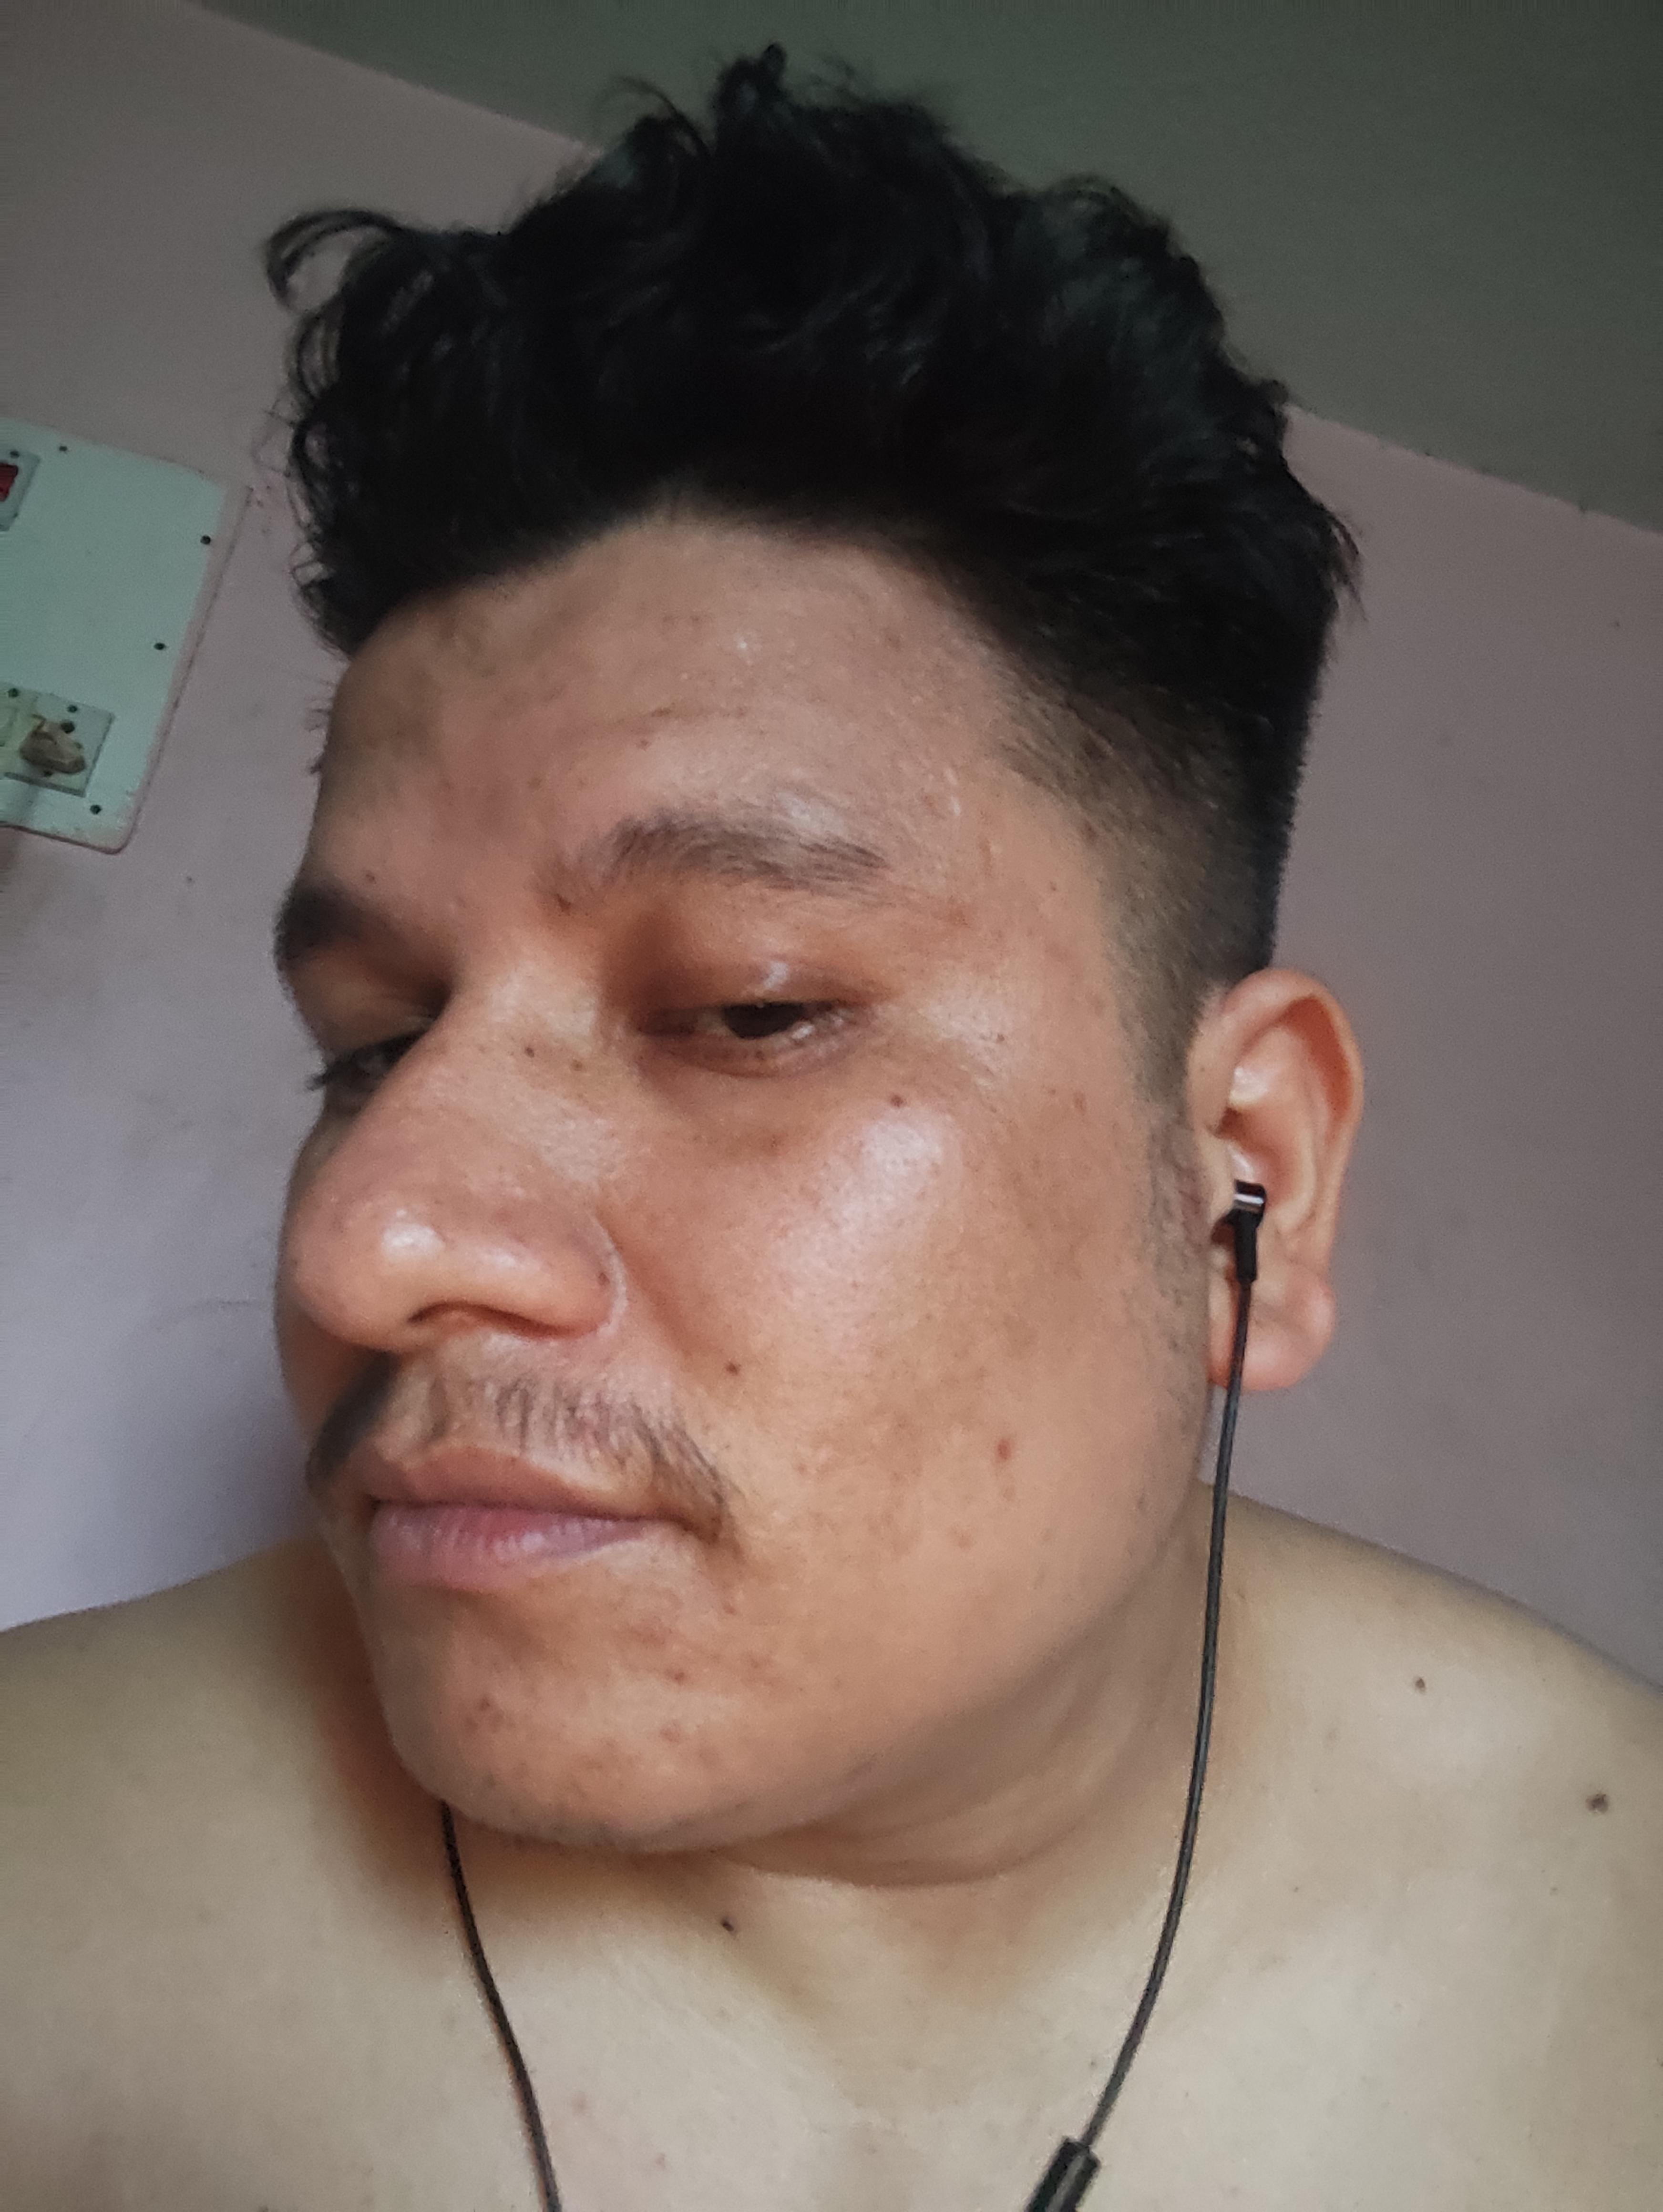Acne: (657, 1716, 725, 1777), (327, 1180, 383, 1233), (459, 1685, 496, 1742), (414, 1215, 454, 1254), (945, 1526, 982, 1556), (990, 1433, 1020, 1467), (521, 765, 549, 800), (664, 1660, 693, 1690), (884, 627, 912, 658)
Wrinkles: (543, 702, 798, 733)
